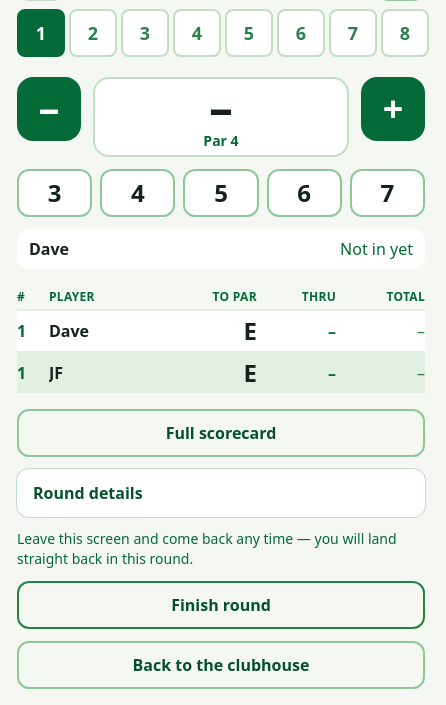
Test case: finishing a round › surfaces a failure to finish rather than claiming the round closed
(page scrolled)
Click the button "Finish round": (221,605) [17,581,425,629]
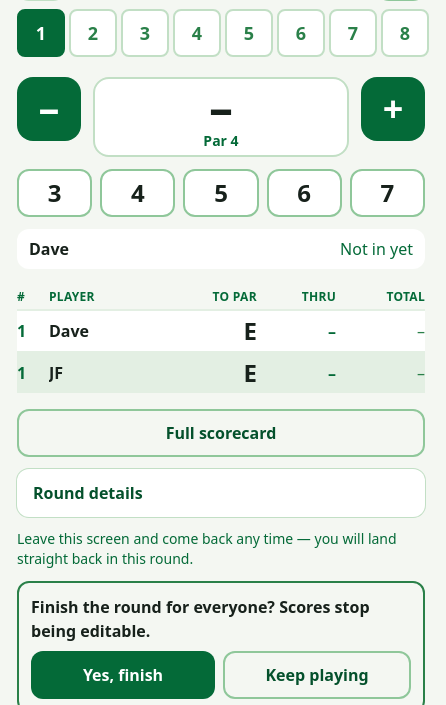
Click the button "Yes, finish": (123,675) [31,651,215,699]
(page scrolled)
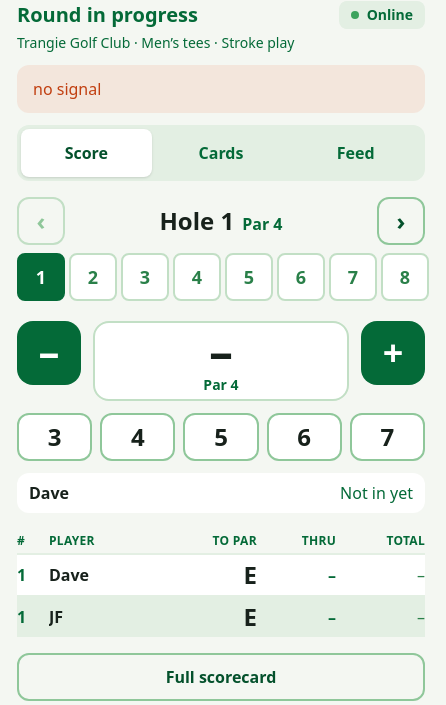
Expected: the message "no signal" is shown, [17,65,425,113]
